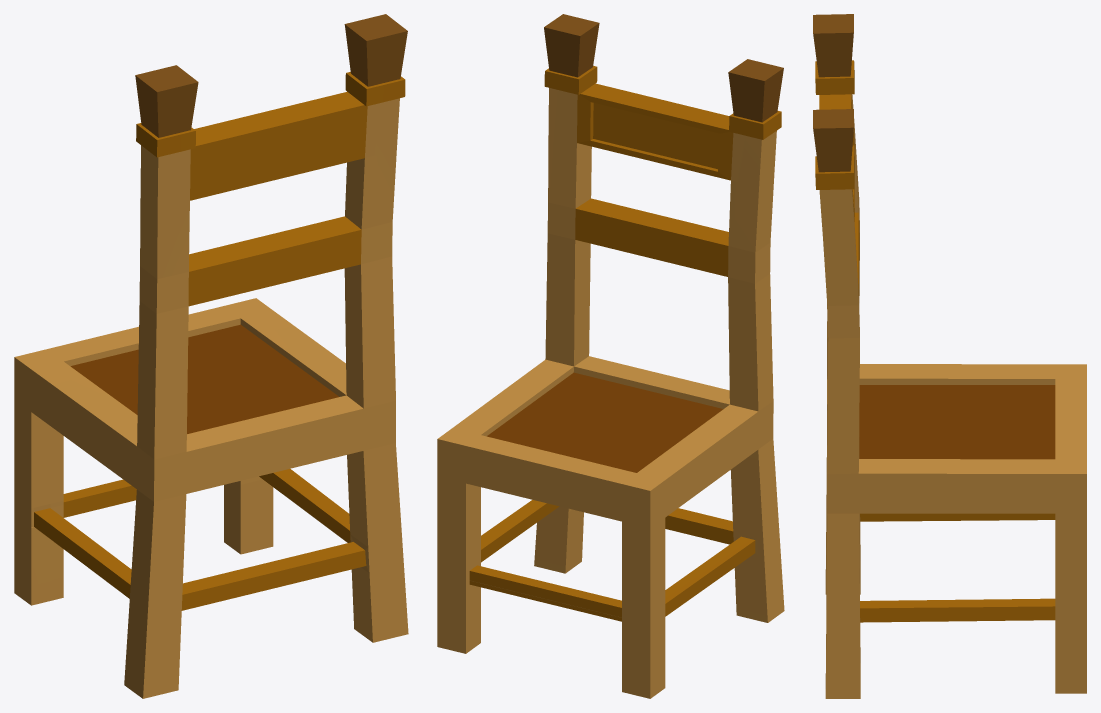
Rendered from Chair 1.fbx.
3 renders of one model, left to right at view 1: azimuth 30°, elevation 25°; view 2: azimuth 150°, elevation 25°; view 3: azimuth 270°, elevation 25°, orthographic. The views are drawn at different scales.
Visible parts, largest first — view 1: Chair 1; view 2: Chair 1; view 3: Chair 1.
Part boxes in pixels (bbox=[...]): Chair 1: bbox=[14, 14, 408, 698]; Chair 1: bbox=[437, 14, 784, 698]; Chair 1: bbox=[813, 14, 1086, 698].
Size of the model in its own units: 2.11 by 4.63 by 2.02.
